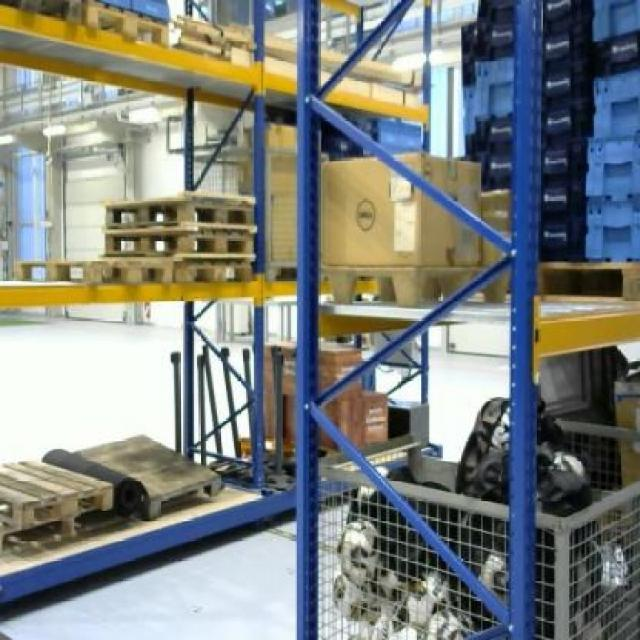box: (318, 151, 480, 264), (316, 398, 362, 456), (316, 342, 362, 398), (362, 388, 390, 447)
